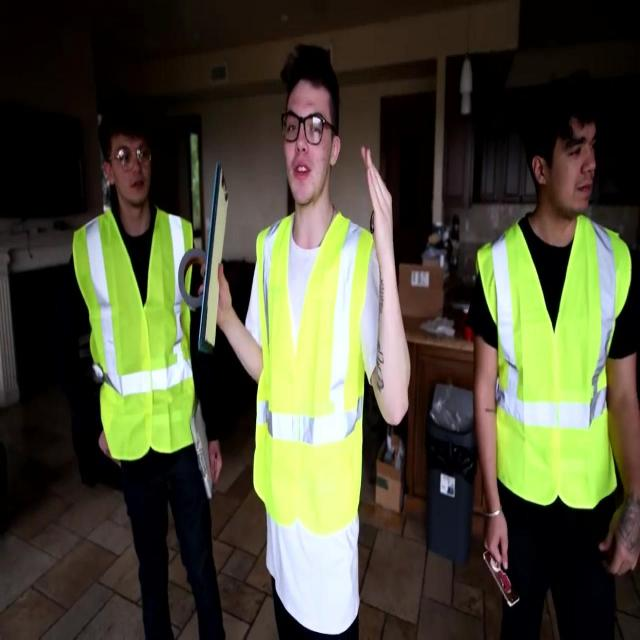Reflective-Jacket: (470, 214, 640, 514), (250, 206, 378, 534), (67, 207, 203, 469)
